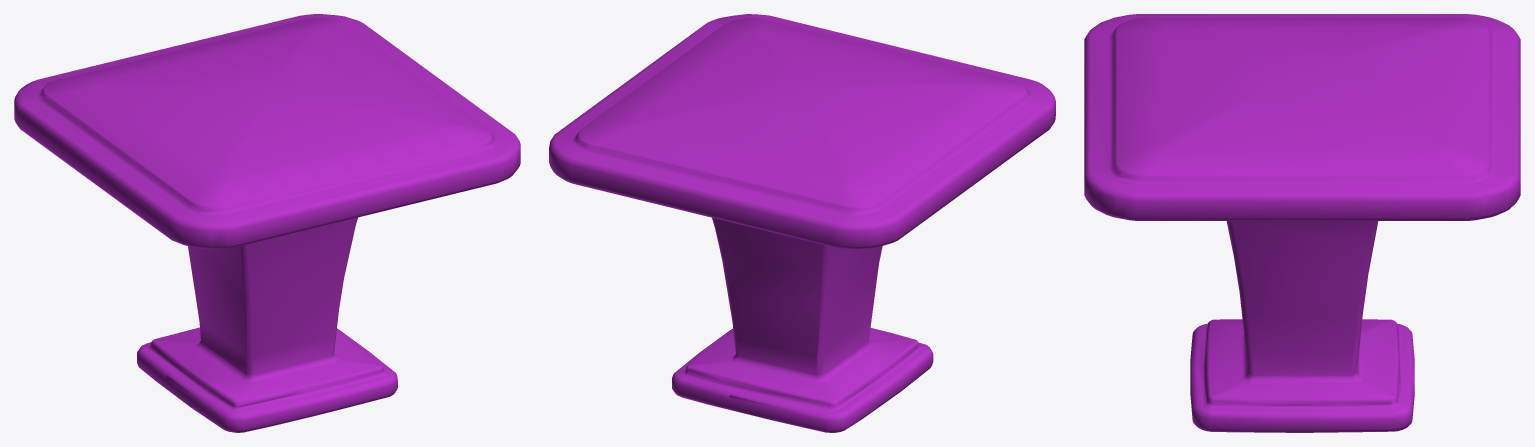
The model's file is rychka_1_1.glb.
3 renders of one model, left to right at view 1: azimuth 30°, elevation 25°; view 2: azimuth 150°, elevation 25°; view 3: azimuth 270°, elevation 25°, orthographic. The views are drawn at different scales.
Visible parts, largest first — view 1: L4.knob06BL; view 2: L4.knob06BL; view 3: L4.knob06BL.
Boxes of the visible parts, box(x1,y1,x2,y2) form: L4.knob06BL: box(14, 14, 520, 432); L4.knob06BL: box(549, 14, 1055, 432); L4.knob06BL: box(1084, 14, 1520, 432).
Size of the model in its own units: 3.54 by 2.8 by 3.54.
